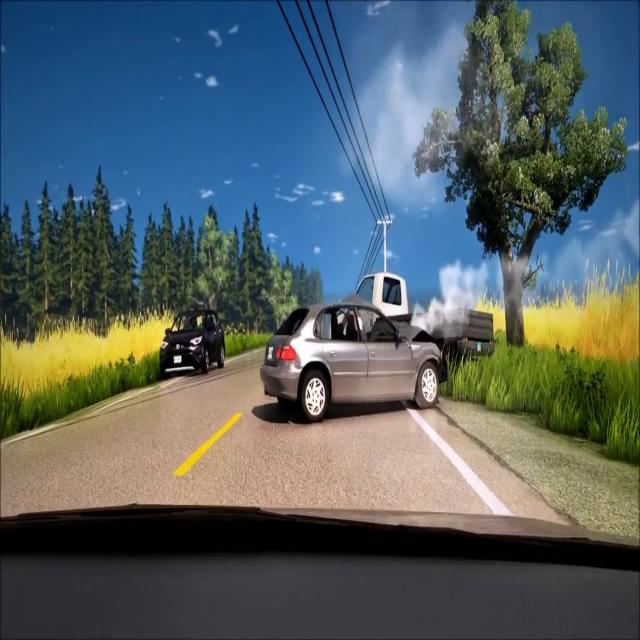accident: (259, 271, 497, 422)
